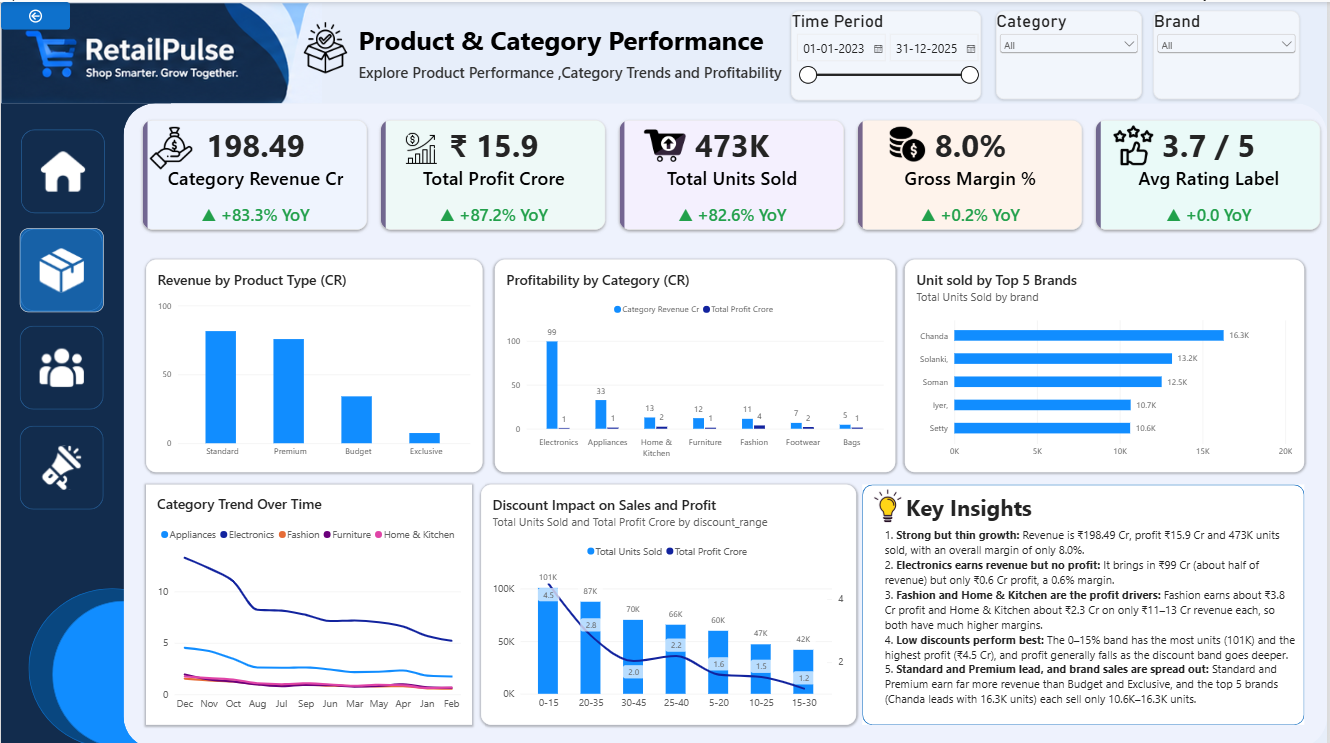

What the dashboard file says about the page in this screenshot:
{"tool":"powerbi","page":{"name":"Product Dashboard","canvas":[1920,1080],"ordinal":1},"visuals":[{"type":"shape","box":[0,0,1920.1,146.6],"z":0},{"type":"shape","box":[1246.4,698.5,640.1,348.3],"z":0,"group":"g2"},{"type":"shape","box":[0,146.6,246.1,933.8],"z":1000},{"type":"image","box":[1244.5,706,77.2,47.1],"z":1000,"group":"g2"},{"type":"image","box":[0,1.8,465.1,144.8],"z":2000},{"type":"textbox","box":[1310.4,709.8,299.4,47.1],"z":2000,"group":"g2"},{"type":"textbox","box":[1279.4,759.7,598.7,286.2],"z":3000,"group":"g2"},{"type":"shape","box":[39.8,848.7,242.5,231.6],"z":3000},{"type":"shape","box":[74.2,866.8,208.1,213.5],"z":4000},{"type":"shape","box":[176.6,146.6,1742.7,933.8],"z":5000},{"type":"textbox","box":[517.6,29,993.4,116.9],"z":6000},{"type":"textbox","box":[517.6,86.9,928.4,244.3],"z":7000},{"type":"cardVisual","fields":{"Data":["public orders.Category Revenue Cr","public orders.Total_Profit_Cr","public order_items.Total Units Sold","public order_items.Gross Margin %","public customer_reviews.Avg Rating Label"]},"box":[199.1,164.7,1721,171.9],"z":8000,"group":"g1"},{"type":"image","box":[215.4,171.5,61.8,79.8],"z":9000,"group":"g1"},{"type":"image","box":[1287.3,177.9,50.8,56.5],"z":10000,"group":"g1"},{"type":"image","box":[584.6,184.6,47.9,53.8],"z":11000,"group":"g1"},{"type":"columnChart","title":"Revenue by Product Type (CR)","fields":{"Category":["public products.product_type"],"Y":["public orders.Category Revenue Cr"]},"box":[209.4,373.4,486.9,307.8],"z":12000},{"type":"clusteredColumnChart","title":"Profitability by Category (CR)","fields":{"Category":["public products.category"],"Y":["public orders.Category Revenue Cr","public orders.Total Profit Crore"]},"box":[714,373.4,580.3,307.8],"z":13000},{"type":"barChart","title":"Unit sold by Top 5 Brands","fields":{"Category":["public products.brand"],"Y":["public order_items.Total Units Sold"]},"box":[1309,373.7,578.1,307.9],"z":14000},{"type":"lineChart","title":"Category Trend Over Time","fields":{"Category":["Date.Month"],"Series":["public products.category"],"Y":["public orders.Category Revenue Cr"]},"box":[209.2,698,472.4,347.8],"z":15000},{"type":"lineClusteredColumnComboChart","title":"Discount Impact on Sales and Profit","fields":{"Category":["public products.discount_range"],"Y":["public order_items.Total Units Sold"],"Y2":["public orders.Total Profit Crore"]},"box":[695.6,698,542.9,347.8],"z":16000},{"type":"slicer","title":"Time Period","fields":{"Values":["Date.Date"]},"box":[1143.3,13.6,275.2,129.8],"z":18000},{"type":"actionButton","box":[0,0,100,40],"z":19000},{"type":"slicer","title":"Category","fields":{"Values":["public products.category"]},"box":[1439.8,13.6,211.2,127.9],"z":20000},{"type":"slicer","title":"Brand","fields":{"Values":["public products.brand"]},"box":[1668.5,13.6,211.2,127.9],"z":21000},{"type":"actionButton","box":[29,184.6,121.2,121.2],"z":22000},{"type":"actionButton","box":[27.1,327.5,121.2,121.2],"z":23000},{"type":"actionButton","box":[27.1,468.7,121.2,121.2],"z":24000},{"type":"actionButton","box":[27.1,613.5,121.2,121.2],"z":25000},{"type":"image","box":[428.9,29,81.4,74.2],"z":26000},{"type":"image","box":[1610,175.7,57.9,64.1],"z":27000,"group":"g1"},{"type":"image","box":[917.7,169.5,86.8,68.2],"z":28000,"group":"g1"},{"type":"group","id":"g1","title":"Group 1","box":[199.1,164.7,1721,171.9],"z":28001},{"type":"group","id":"g2","title":"Group 2","box":[1244.5,698.5,642,348.3],"z":28002}]}

Visuals, with their boxes on the page's 1920x1080 design canvas (x1, y1, x2, y2). These are canvas units, not pixel positions in the 1330x743 screenshot, which may show the page scaled, cropped or inside an application window:
shape: 0/0/1920/147
shape: 1246/698/1886/1047
shape: 0/147/246/1080
image: 1244/706/1322/753
image: 0/2/465/147
textbox: 1310/710/1610/757
textbox: 1279/760/1878/1046
shape: 40/849/282/1080
shape: 74/867/282/1080
shape: 177/147/1919/1080
textbox: 518/29/1511/146
textbox: 518/87/1446/331
cardVisual - public orders.Category Revenue Cr x public orders.Total_Profit_Cr: 199/165/1920/337
image: 215/172/277/251
image: 1287/178/1338/234
image: 585/185/632/238
"Revenue by Product Type (CR)" columnChart: 209/373/696/681
"Profitability by Category (CR)" clusteredColumnChart: 714/373/1294/681
"Unit sold by Top 5 Brands" barChart: 1309/374/1887/682
"Category Trend Over Time" lineChart: 209/698/682/1046
"Discount Impact on Sales and Profit" lineClusteredColumnComboChart: 696/698/1238/1046
"Time Period" slicer: 1143/14/1418/143
actionButton: 0/0/100/40
"Category" slicer: 1440/14/1651/142
"Brand" slicer: 1668/14/1880/142
actionButton: 29/185/150/306
actionButton: 27/328/148/449
actionButton: 27/469/148/590
actionButton: 27/614/148/735
image: 429/29/510/103
image: 1610/176/1668/240
image: 918/170/1004/238
"Group 1" group: 199/165/1920/337
"Group 2" group: 1244/698/1886/1047
